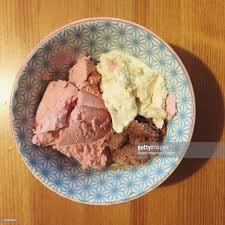ice-cream: (35, 58, 108, 170), (99, 51, 175, 125), (109, 121, 167, 169)
